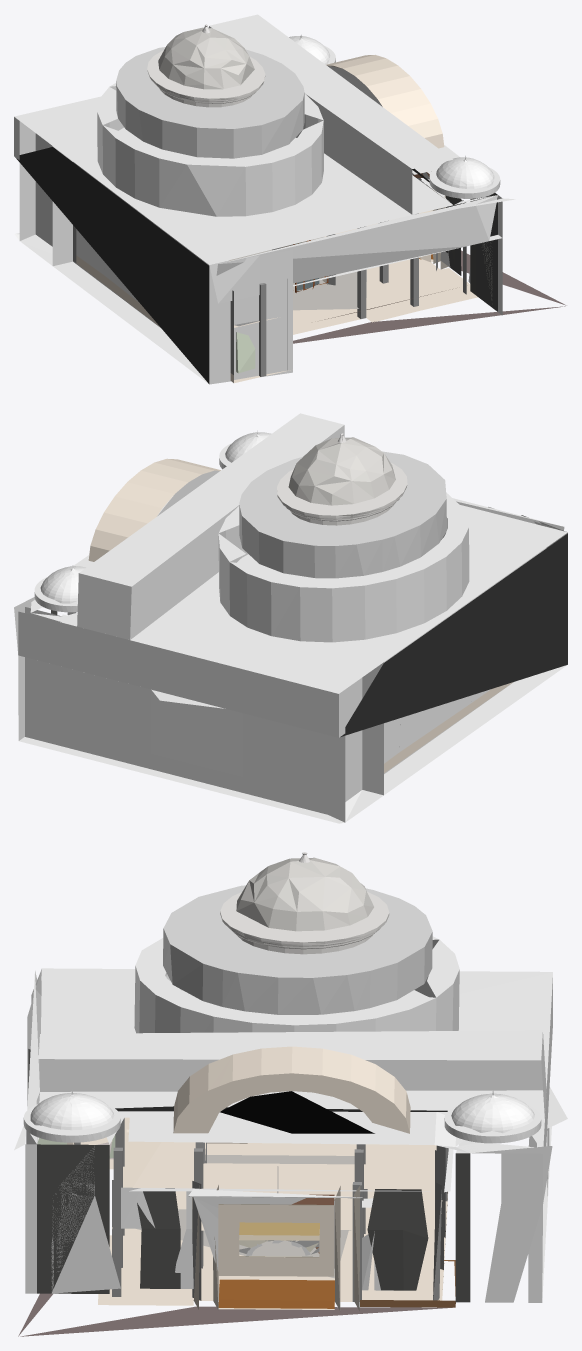
File: masjid.lod1.glb
3 views of the same model, one above another, from view 1: azimuth 30°, elevation 25°; view 2: azimuth 150°, elevation 25°; view 3: azimuth 270°, elevation 25° (orthographic). The views are drawn at different scales.
Parts seen in each view (by area): view 1: Object_9; view 2: Object_9; view 3: Object_9.
Part boxes in pixels (x1=…): Object_9: x1=14, y1=14, x2=566, y2=384; Object_9: x1=14, y1=413, x2=567, y2=823; Object_9: x1=14, y1=852, x2=567, y2=1336.
Size of the model in its own units: 14.76 by 10.6 by 15.95.
Materials: 1 (1 with a texture image).
